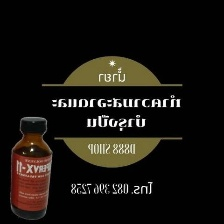book: (7, 115, 56, 223)
